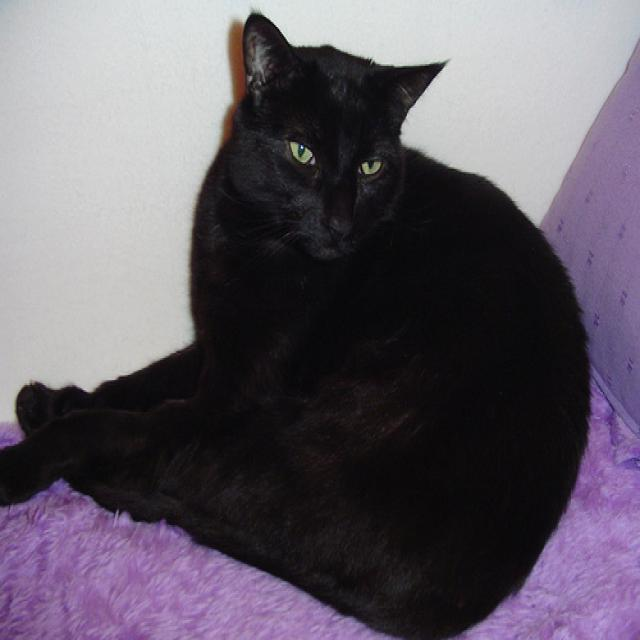left eye: (356, 152, 384, 177)
